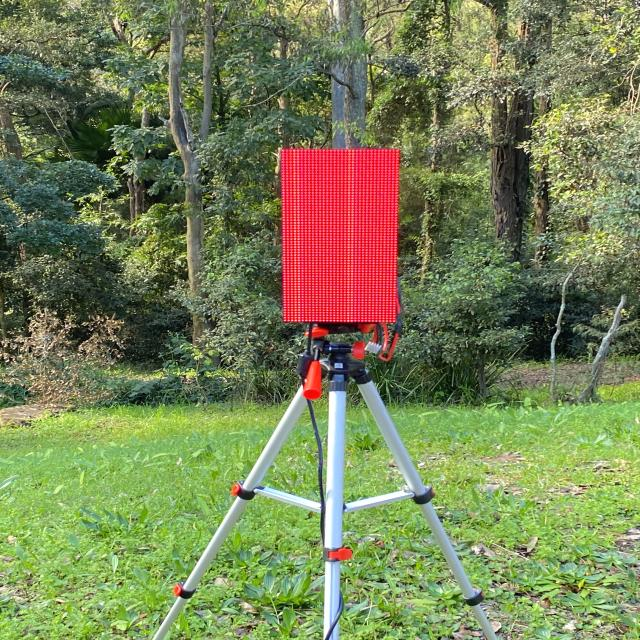matrix: (271, 144, 409, 326)
